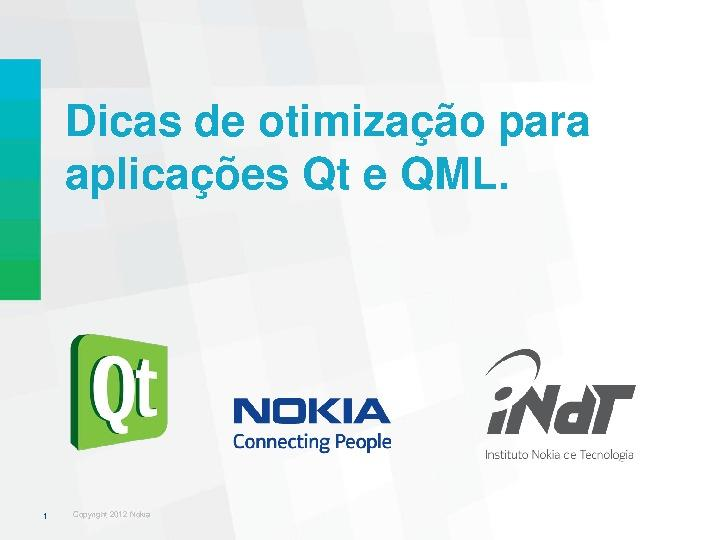subtitle: (46, 321, 684, 540)
title: (56, 86, 620, 220)
